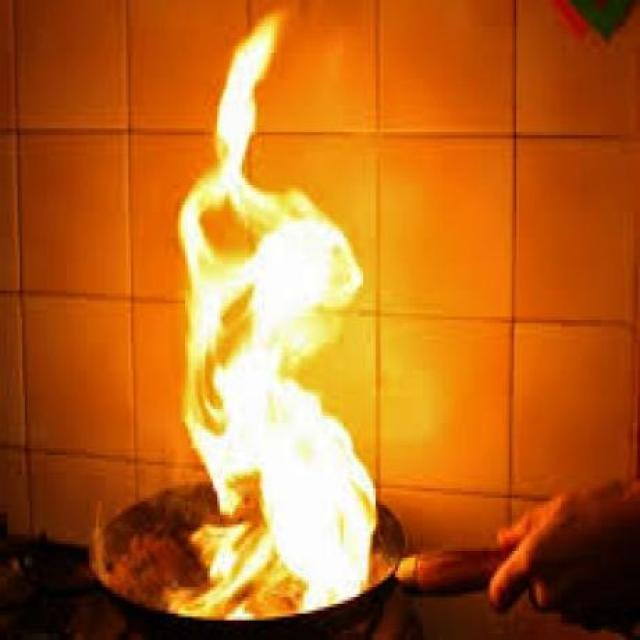Fire: (166, 4, 384, 626)
